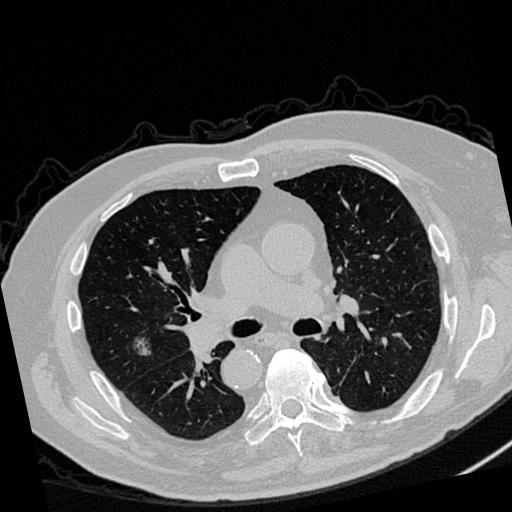nodule: (130, 333, 157, 360)
